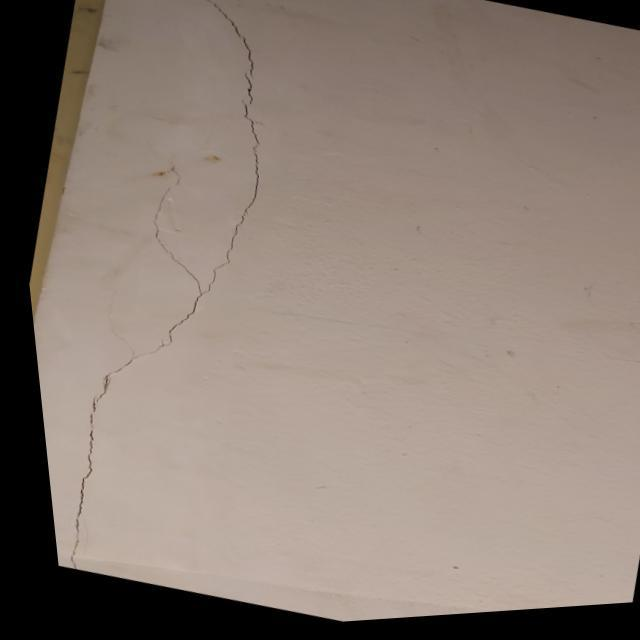Crack: (169, 5, 262, 341), (71, 350, 157, 565)
